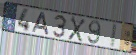3: (52, 14, 68, 39)
4: (16, 7, 32, 34)
9: (86, 19, 102, 45)
A: (32, 12, 50, 37)
I: (109, 23, 118, 49)
X: (67, 16, 86, 44)
